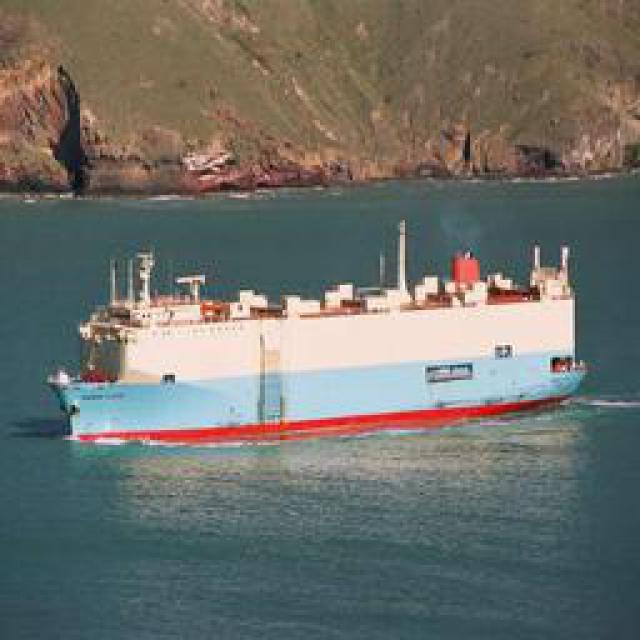Ship: (49, 228, 592, 453)
